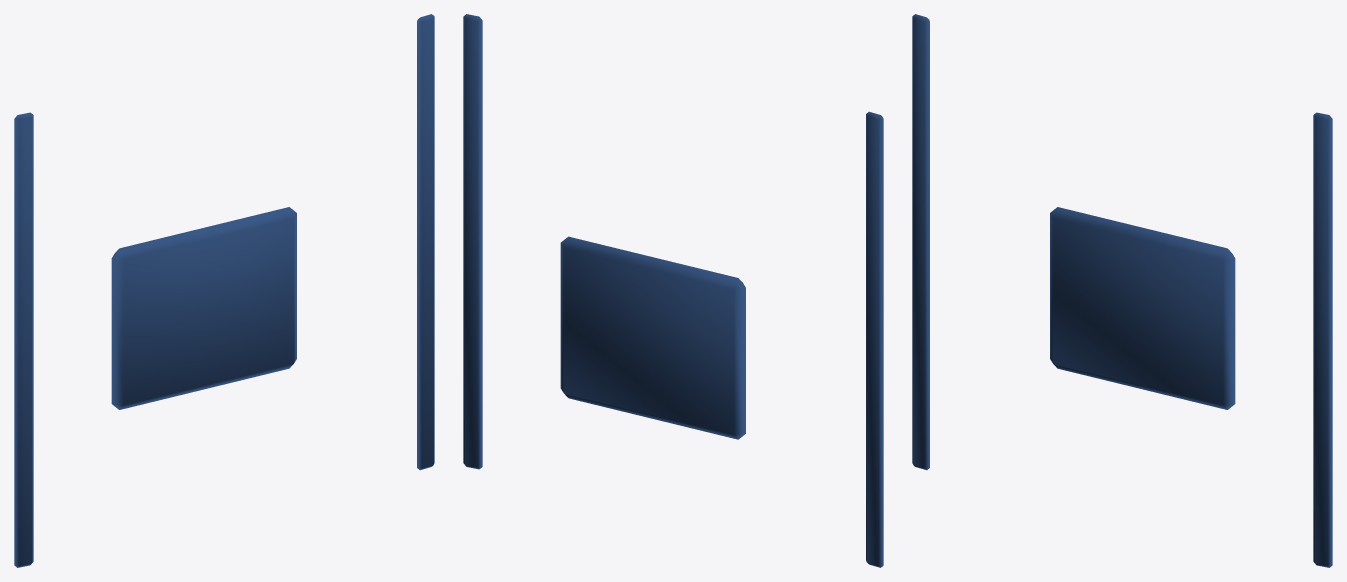
The model's file is top_jersey.glb.
3 renders of one model, left to right at view 1: azimuth 30°, elevation 25°; view 2: azimuth 150°, elevation 25°; view 3: azimuth 330°, elevation 25°, orthographic.
Visible parts, largest first — view 1: Body; view 2: Body; view 3: Body.
Boxes of the visible parts, x1,y1,x2,y2 form: Body: (14,14,434,567); Body: (463,14,883,567); Body: (912,14,1332,567).
Size of the model in its own units: 0.272 by 0.28 by 0.0303.
